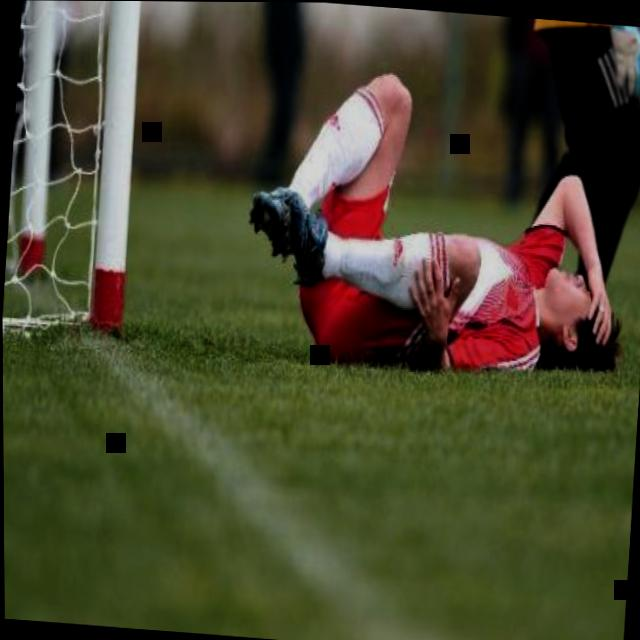Fall-Detected: (230, 44, 639, 392)
